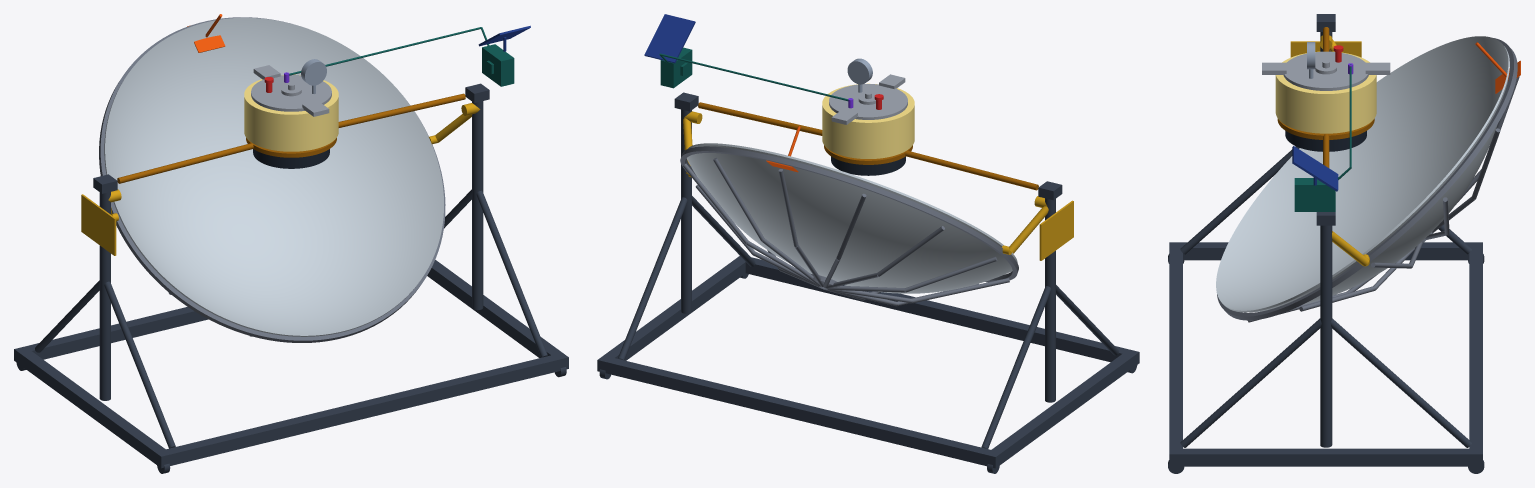
The picture shows the model from 3 angles, left to right: view 1: azimuth 30°, elevation 25°; view 2: azimuth 150°, elevation 25°; view 3: azimuth 270°, elevation 25°; orthographic projection. The views are drawn at different scales.
Visible parts, largest first — view 1: Reflector, polished aluminum petals, Stand with castors, Insulated jacket, Dish ribs, rim and hub, Lid with weighted regulator, Level pot holder, Tilt yoke and quadrant lock, Cycle logger, Pressure cooker body, 12 L, Pressure gauge; view 2: Stand with castors, Reflector, polished aluminum petals, Dish ribs, rim and hub, Insulated jacket, Lid with weighted regulator, Tilt yoke and quadrant lock, Level pot holder, Logger solar panel, 5 W, Cycle logger, Pressure cooker body, 12 L, Pressure gauge; view 3: Reflector, polished aluminum petals, Stand with castors, Dish ribs, rim and hub, Insulated jacket, Lid with weighted regulator, Cycle logger, Tilt yoke and quadrant lock, Level pot holder, Logger solar panel, 5 W, Pressure cooker body, 12 L, Sighting gnomon.
Boxes of the visible parts, left/top/right/bottom form: Reflector, polished aluminum petals: left=104, top=17, right=443, bottom=336; Stand with castors: left=14, top=83, right=568, bottom=473; Insulated jacket: left=244, top=74, right=338, bottom=151; Dish ribs, rim and hub: left=99, top=17, right=445, bottom=342; Lid with weighted regulator: left=251, top=65, right=331, bottom=116; Level pot holder: left=117, top=93, right=465, bottom=183; Tilt yoke and quadrant lock: left=81, top=103, right=480, bottom=255; Cycle logger: left=286, top=27, right=514, bottom=86; Pressure cooker body, 12 L: left=253, top=149, right=329, bottom=168; Pressure gauge: left=301, top=59, right=326, bottom=93; Stand with castors: left=597, top=92, right=1139, bottom=473; Reflector, polished aluminum petals: left=686, top=143, right=1017, bottom=293; Dish ribs, rim and hub: left=680, top=146, right=1018, bottom=306; Insulated jacket: left=822, top=83, right=914, bottom=158; Lid with weighted regulator: left=829, top=74, right=907, bottom=124; Tilt yoke and quadrant lock: left=683, top=111, right=1073, bottom=260; Level pot holder: left=698, top=102, right=1038, bottom=190; Logger solar panel, 5 W: left=644, top=14, right=695, bottom=63; Cycle logger: left=659, top=47, right=848, bottom=101; Pressure cooker body, 12 L: left=831, top=156, right=905, bottom=175; Pressure gauge: left=847, top=58, right=872, bottom=92; Reflector, polished aluminum petals: left=1216, top=36, right=1509, bottom=312; Stand with castors: left=1168, top=14, right=1484, bottom=473; Dish ribs, rim and hub: left=1217, top=38, right=1519, bottom=322; Insulated jacket: left=1275, top=51, right=1376, bottom=133; Lid with weighted regulator: left=1262, top=51, right=1390, bottom=90; Cycle logger: left=1294, top=64, right=1351, bottom=211; Tilt yoke and quadrant lock: left=1290, top=35, right=1369, bottom=266; Level pot holder: left=1277, top=27, right=1374, bottom=167; Logger solar panel, 5 W: left=1292, top=146, right=1338, bottom=191; Pressure cooker body, 12 L: left=1285, top=131, right=1366, bottom=151; Sighting gnomon: left=1475, top=42, right=1520, bottom=93.
Size of the model in its own units: 1.93 by 1.35 by 1.29.
